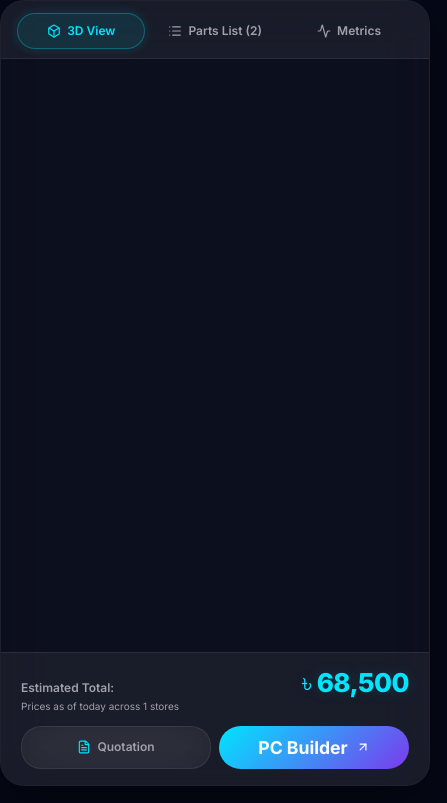
it: Tonima AI Handoff & Wiring Test Suite (TonimaHandoff.test.tsx) › UI-HUD-003: validation.violations are rendered in the Metrics tab
Click the button "Metrics" at (349, 31), box [285,13,413,49]
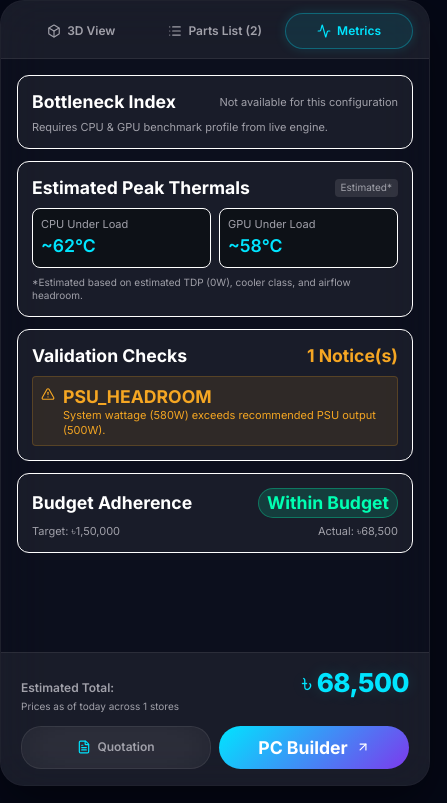
Result: the text "psu_headroom" is shown at [63,386,212,407]
Result: the text "System wattage (580W) exceeds recommended PSU output (500W)." is shown at [63,408,389,437]
